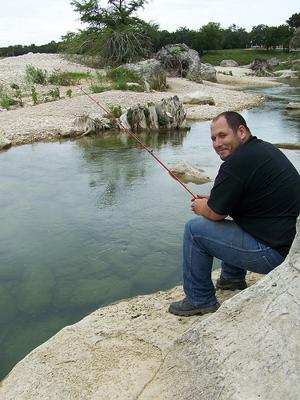person: (170, 112, 300, 319)
